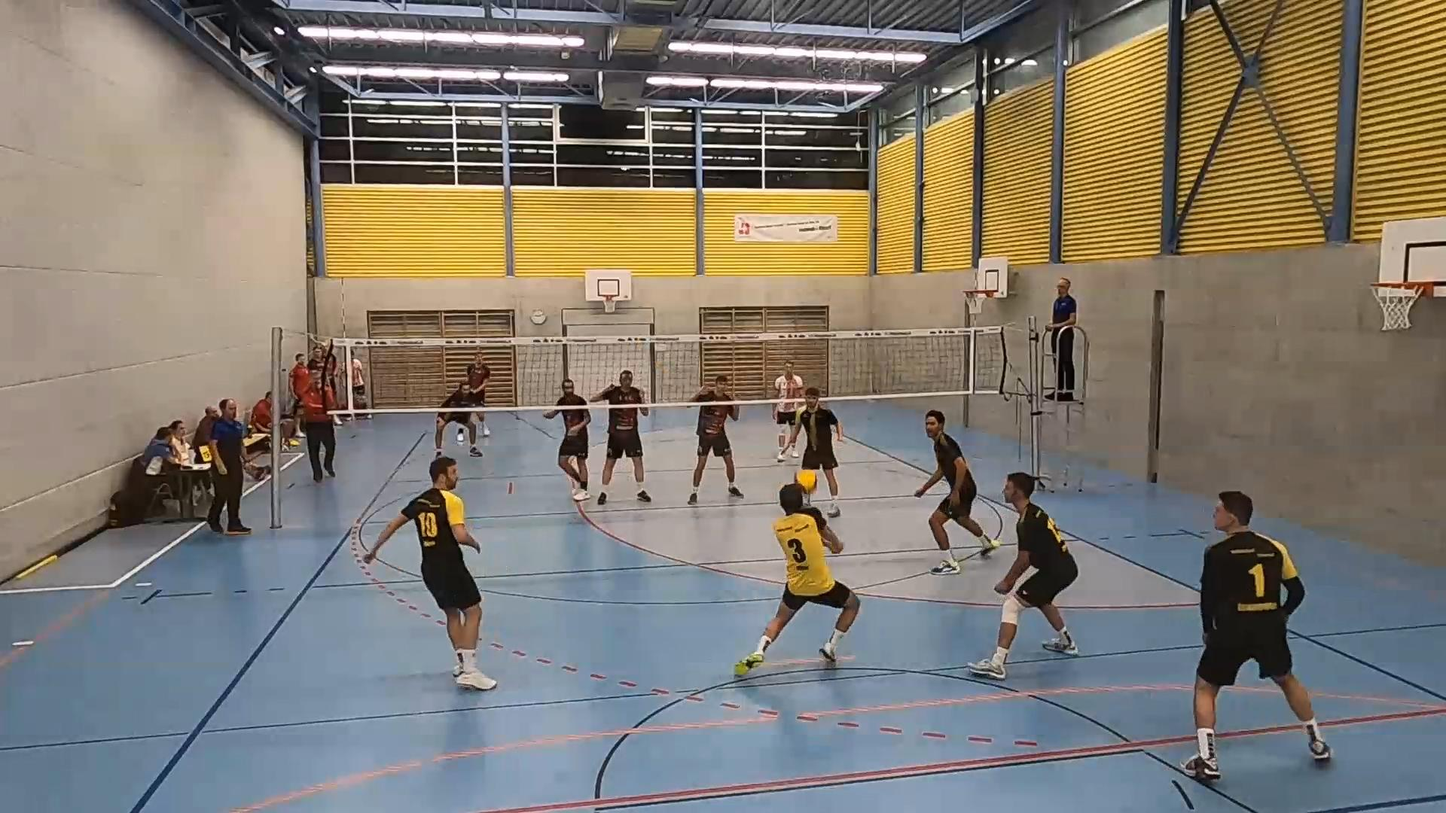Player: (1182, 491, 1331, 781), (363, 458, 496, 690), (967, 473, 1078, 679), (915, 410, 999, 574), (590, 370, 651, 505), (786, 388, 843, 517), (688, 375, 743, 504), (543, 379, 590, 501), (435, 381, 482, 457), (773, 360, 804, 461), (465, 350, 491, 407)
Receive: (753, 489, 860, 664)
